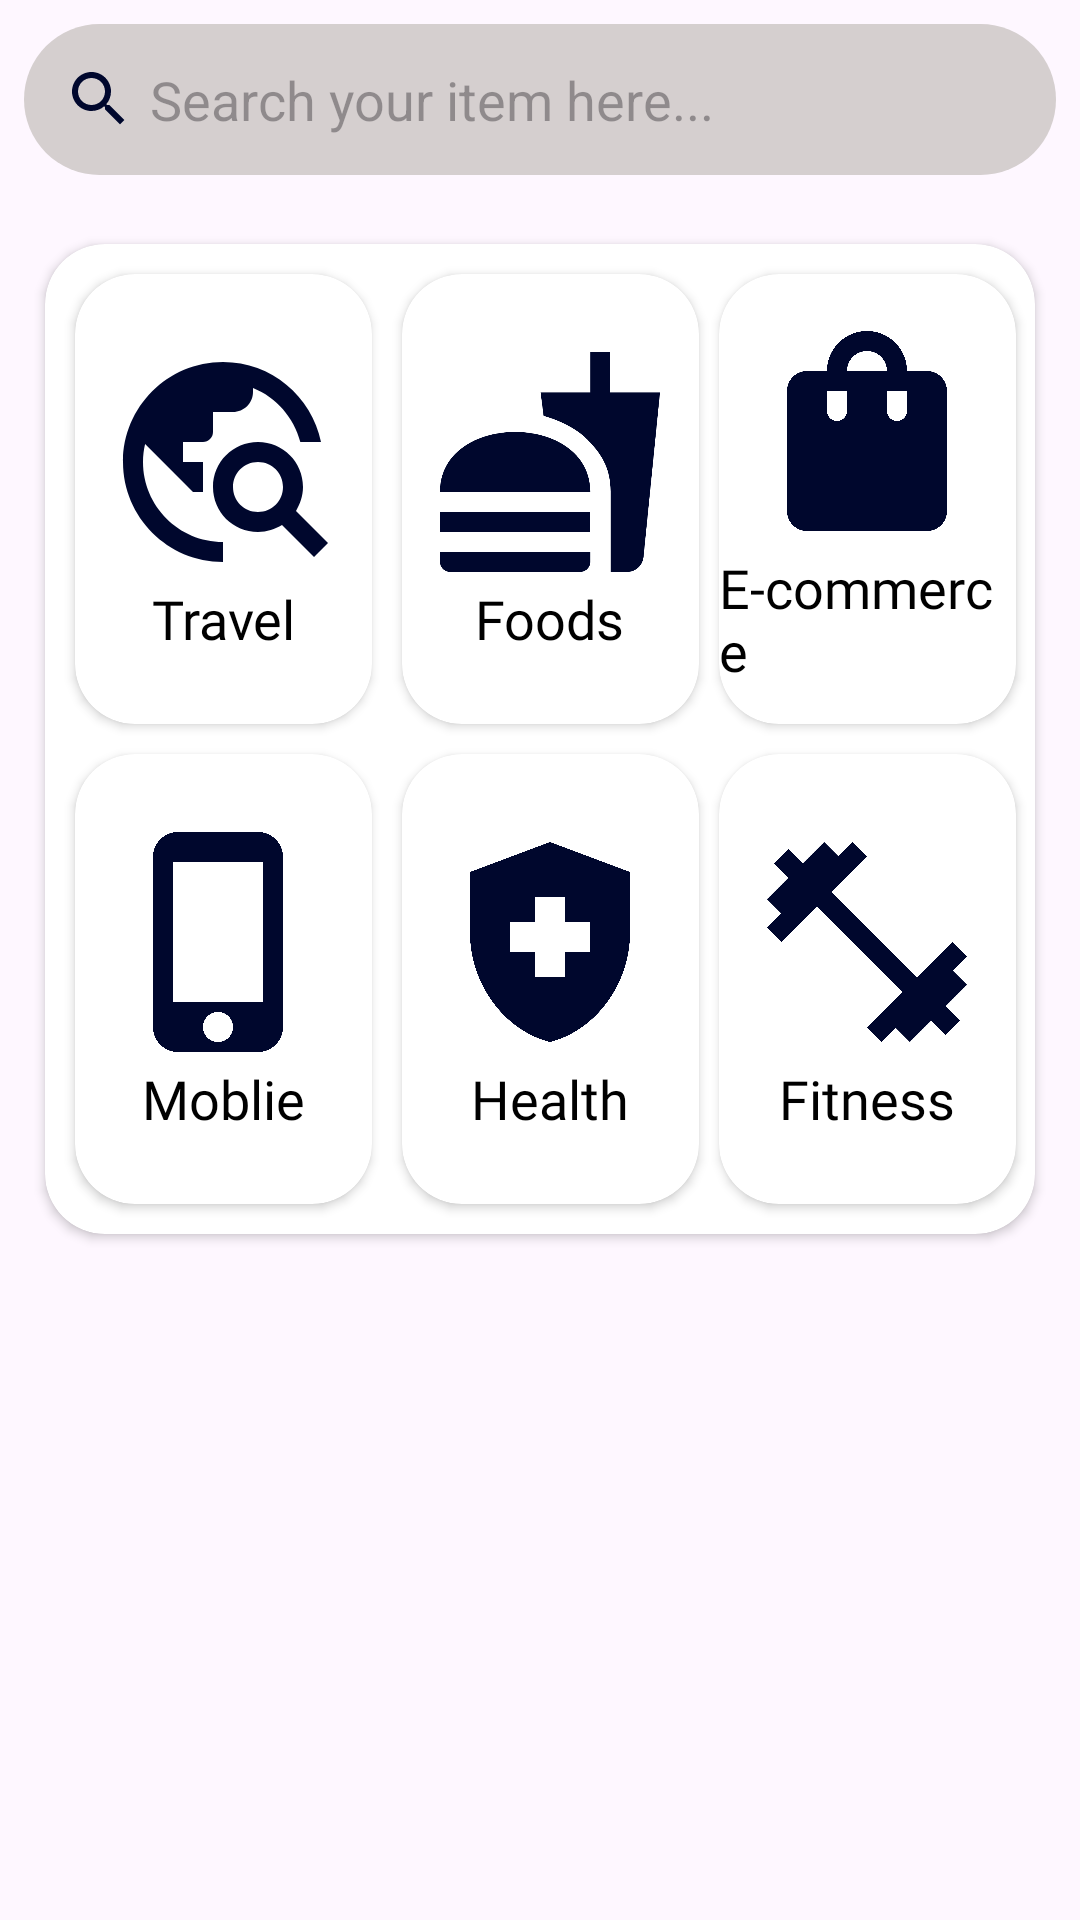

Point at icon controls on the screen. Image size 1080px x 1920px, points as (x,y).
shopping bag: (867,431)
